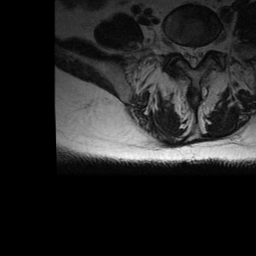CCS_normal: (190, 41, 197, 72)
LFS_normal: (204, 37, 212, 57)
LLS_normal: (197, 41, 205, 65)
RFS_normal: (173, 38, 182, 59)
RLS_normal: (182, 40, 190, 68)
